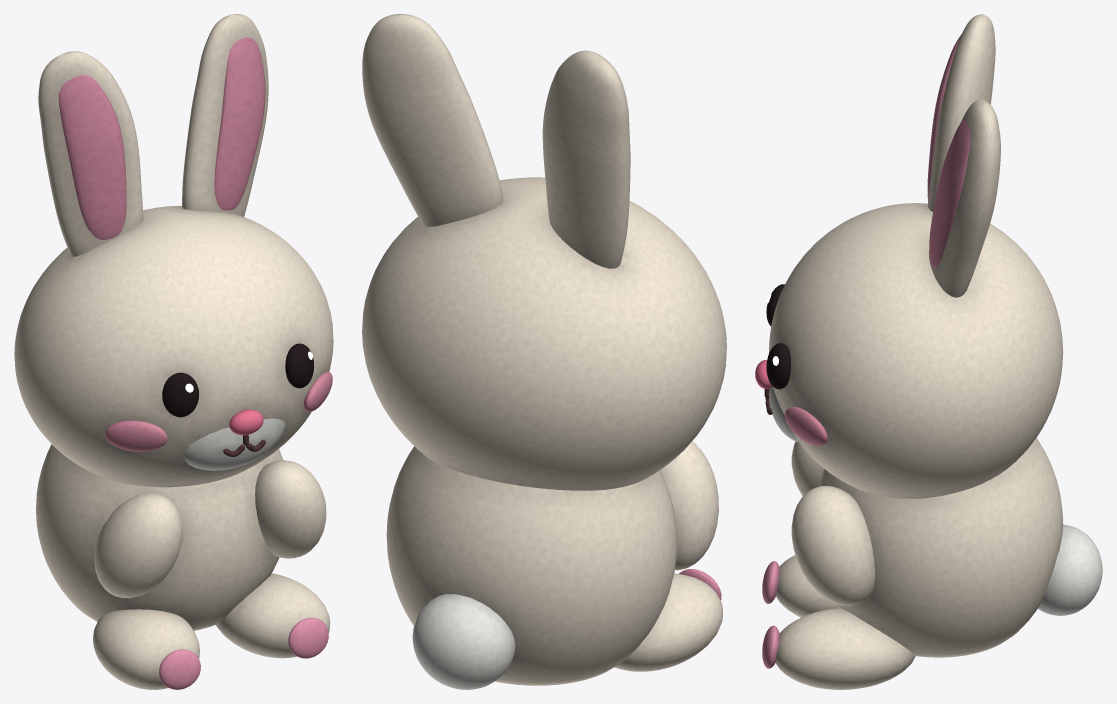
File: bunny.glb
3 views of the same model, side by side, from view 1: azimuth 30°, elevation 25°; view 2: azimuth 150°, elevation 25°; view 3: azimuth 270°, elevation 25° (orthographic). The views are drawn at different scales.
Parts seen in each view (by area): view 1: fur, pink, white, eye, blush, nose; view 2: fur, white; view 3: fur, pink, white, eye, blush.
Boxes of the visible parts, x1,y1,x2,y2 form: fur: [14, 14, 333, 689]; pink: [58, 37, 328, 689]; white: [184, 418, 285, 470]; eye: [162, 343, 314, 417]; blush: [105, 371, 332, 451]; nose: [229, 409, 263, 435]; fur: [362, 14, 726, 685]; white: [412, 594, 515, 689]; fur: [769, 14, 1063, 689]; pink: [762, 34, 970, 668]; white: [769, 386, 1102, 615]; eye: [766, 284, 790, 389]; blush: [785, 406, 827, 445].
Size of the model in its own units: 0.0984 by 0.1915 by 0.1007.
Materials: 8 (4 with a texture image).
